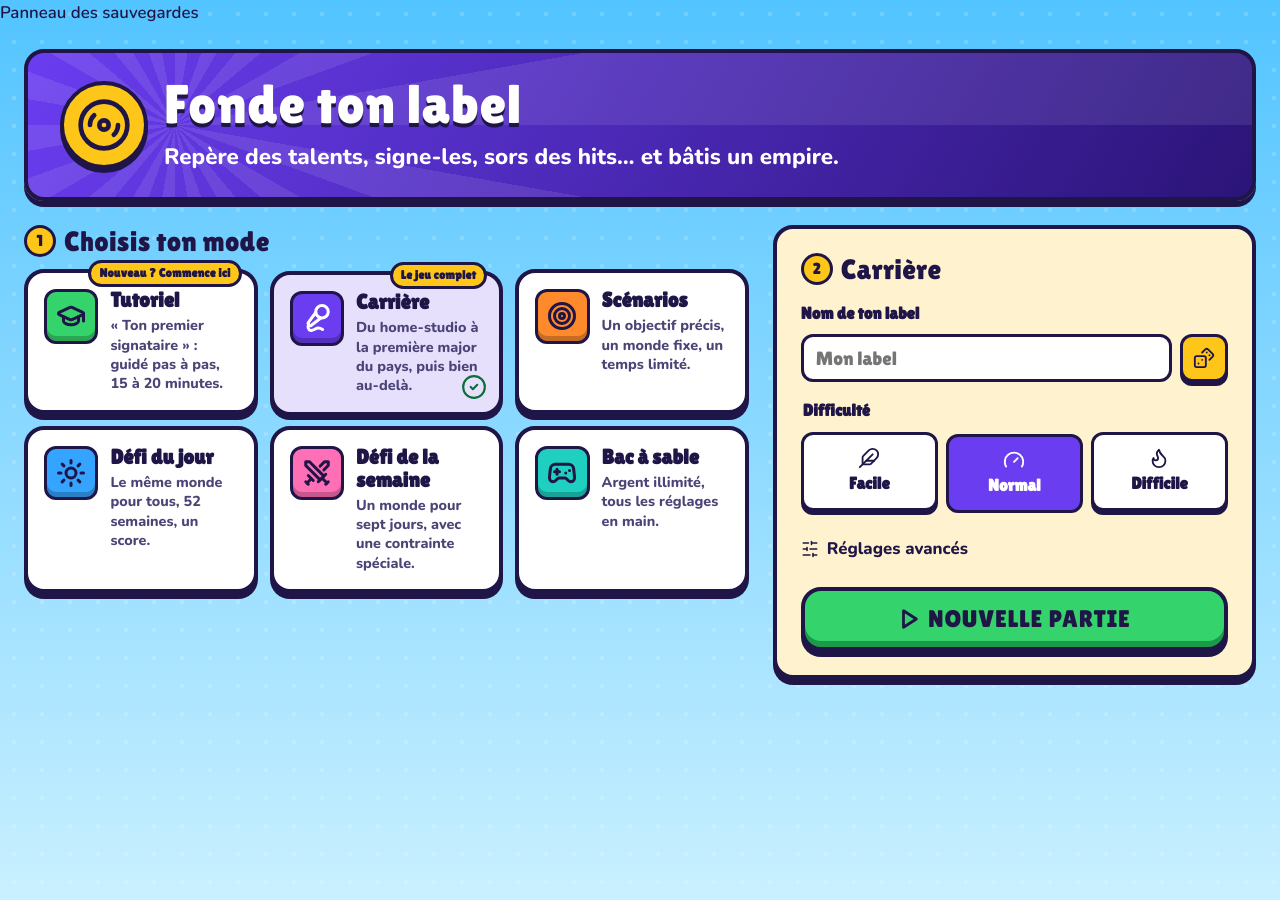
coquille plein écran › range les écrans en pôles et signale ceux qui attendent un palier
This screenshot has width=1280, height=900.
Click the button "Nouvelle partie". click: (1014, 619)
box: x1=801 y1=587 x2=1228 y2=651
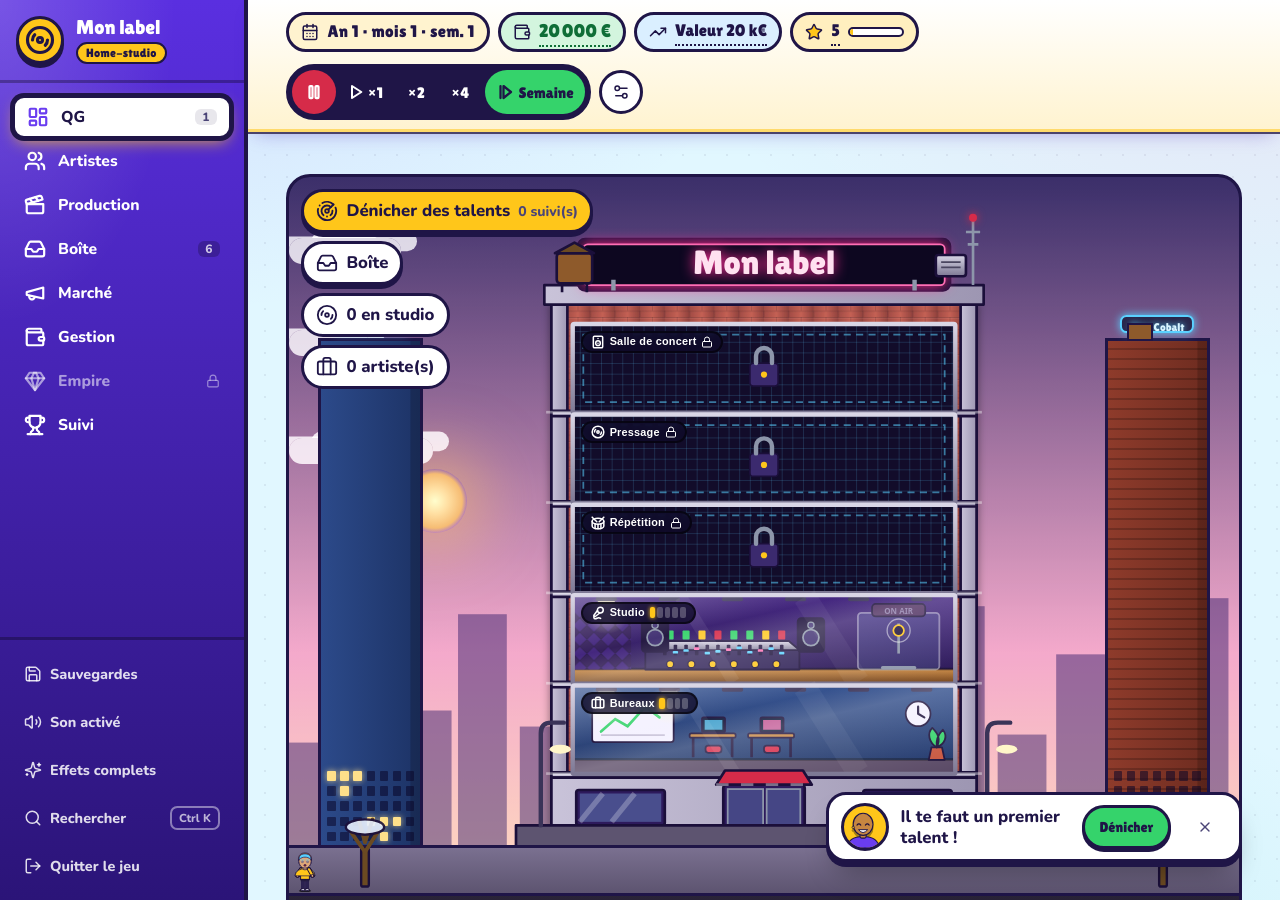
Now the button "QG 1" is shown, box x1=12 y1=95 x2=232 y2=139
Now the button "Artistes" is shown, box x1=12 y1=139 x2=232 y2=183
Now the button "Marché" is shown, box x1=12 y1=271 x2=232 y2=315
